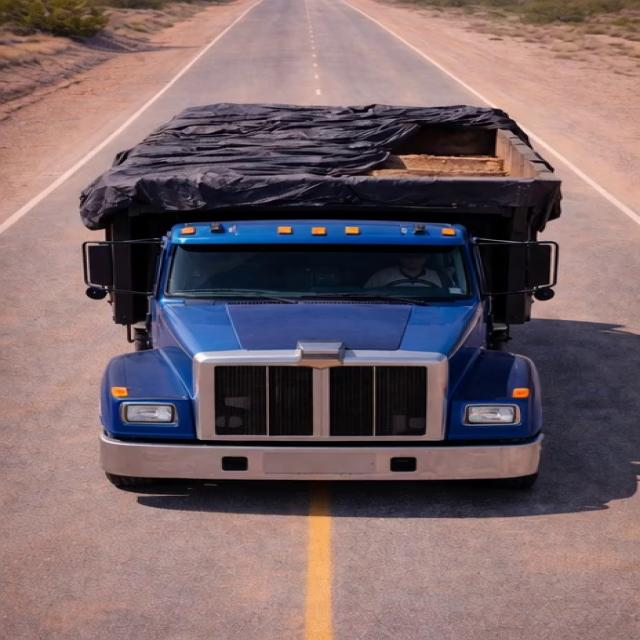Box: (107, 99, 550, 197)
Truck: (72, 79, 564, 486)
